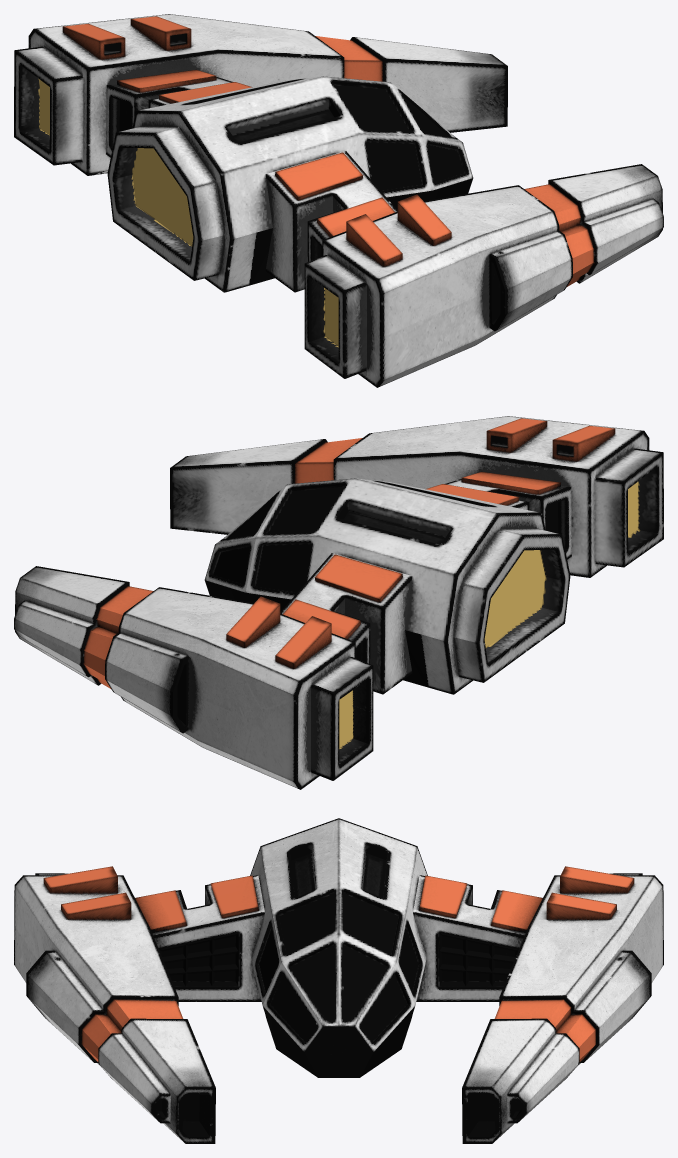
File: ZigZagShipGen3.fbx
3 renders of one model, top to bottom at view 1: azimuth 30°, elevation 25°; view 2: azimuth 150°, elevation 25°; view 3: azimuth 270°, elevation 25°, orthographic. The views are drawn at different scales.
Parts seen in each view (by area): view 1: Cube.017; view 2: Cube.017; view 3: Cube.017.
Boxes of the visible parts, x1=… form: Cube.017: x1=14, y1=14, x2=663, y2=387; Cube.017: x1=14, y1=416, x2=663, y2=789; Cube.017: x1=14, y1=818, x2=663, y2=1143.
Size of the model in its own units: 401 by 146 by 583.
